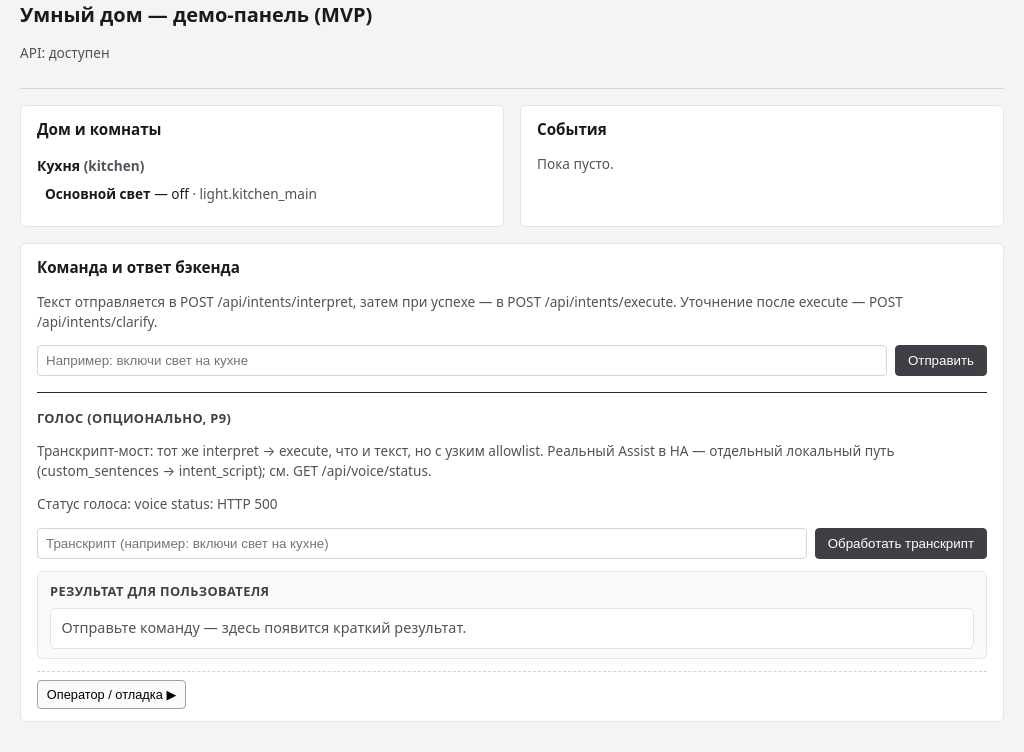
Scenario: App P6b operator/debug › trace summary reflects last response source after execute
Expected: the element with test id "house-state" is shown, [37,156,317,203]
Type "включи свет на кухне" into the field with test id "command-input" at (462, 361), box [37,345,887,376]
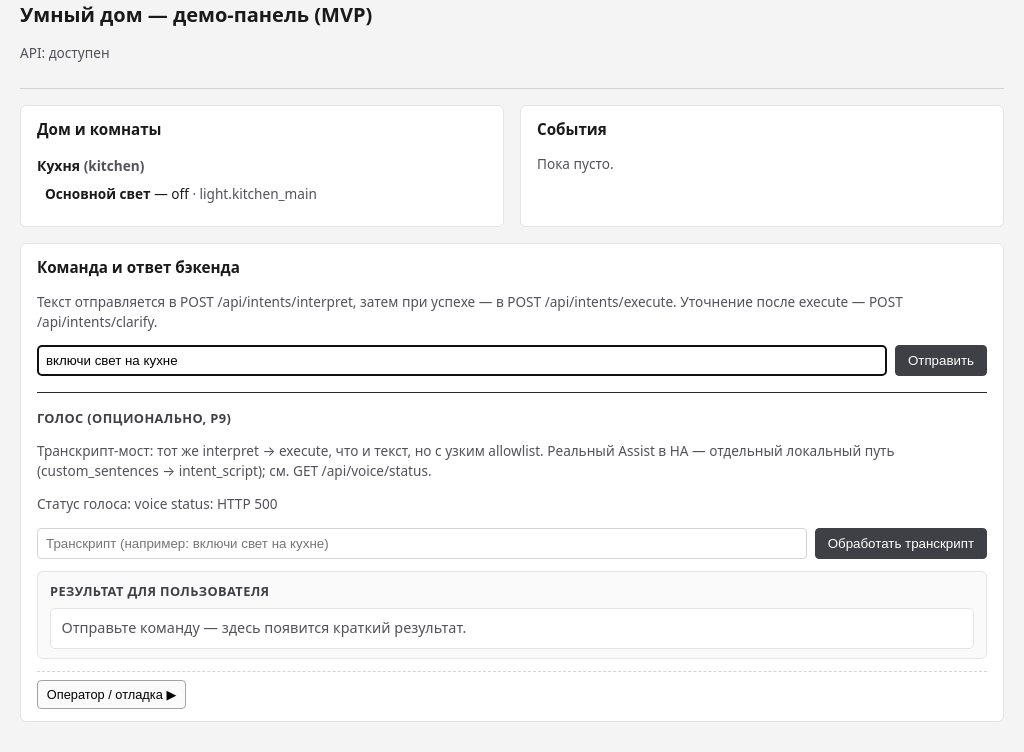
Click the button with test id "command-submit" at (941, 361), box [895,345,987,376]
(page scrolled)
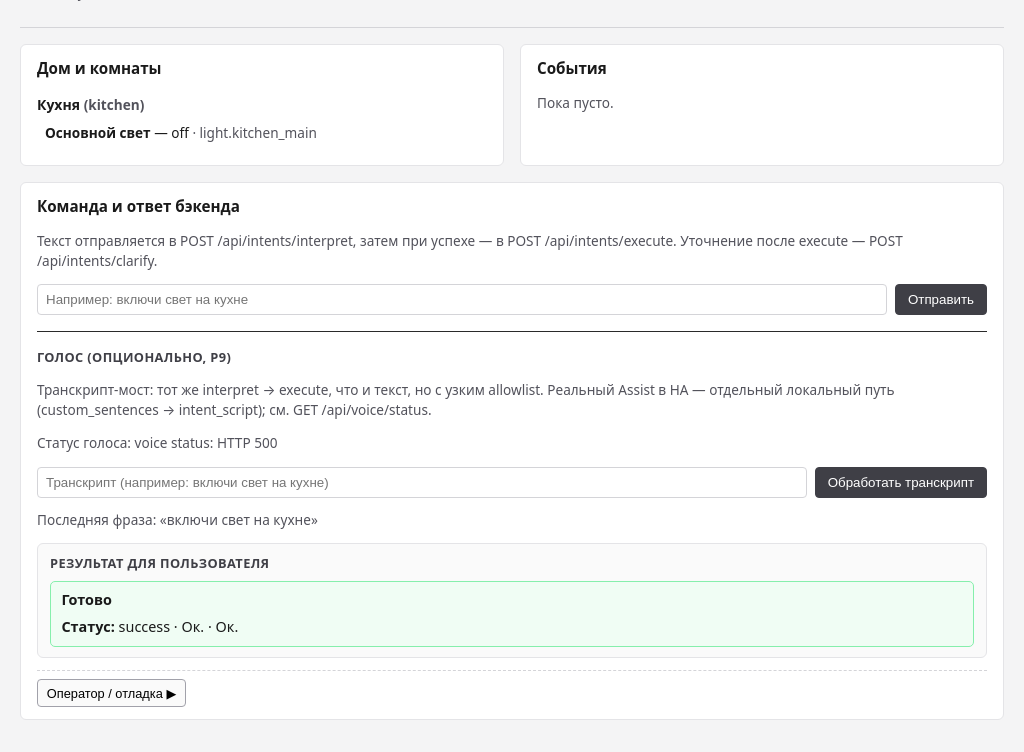
Now the text with test id "execute-status" reads "success", box [119,617,170,636]
Click the button with test id "operator-debug-toggle" at (112, 693), box [37,679,186,707]
(page scrolled)
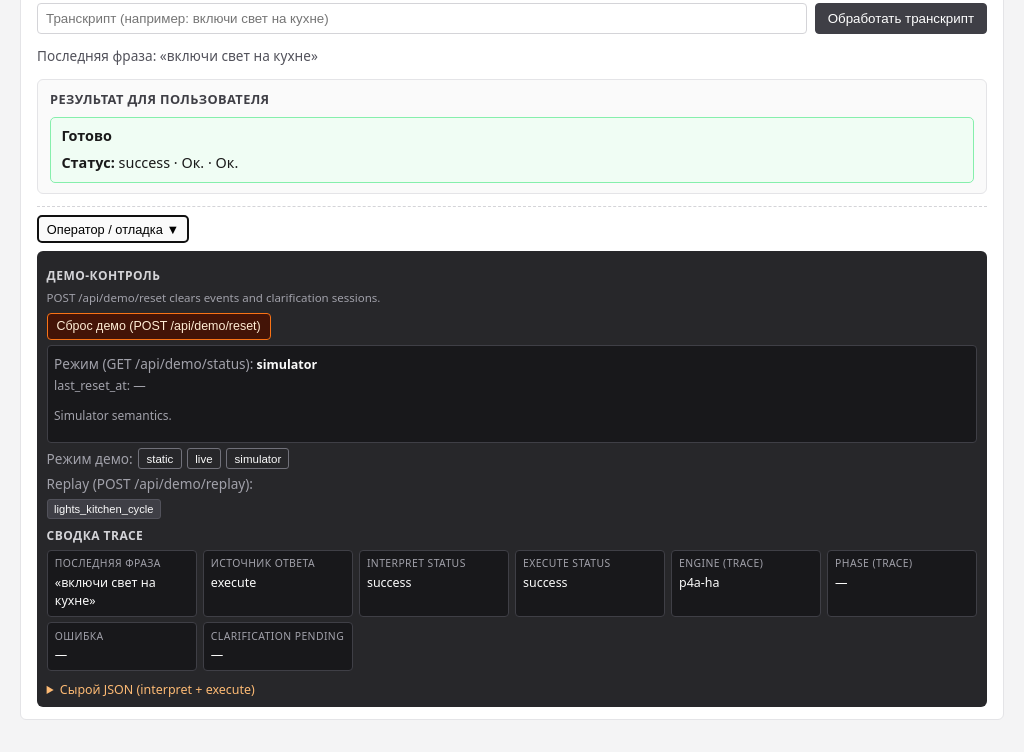
Now the text with test id "trace-response-source" reads "execute", box [211,574,256,591]
Now the text with test id "trace-engine" reads "p4a-ha", box [679,574,720,591]
